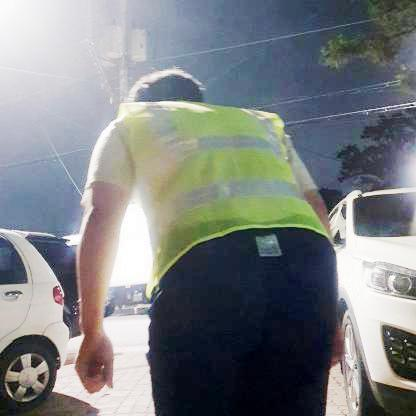vest: (106, 87, 334, 297)
